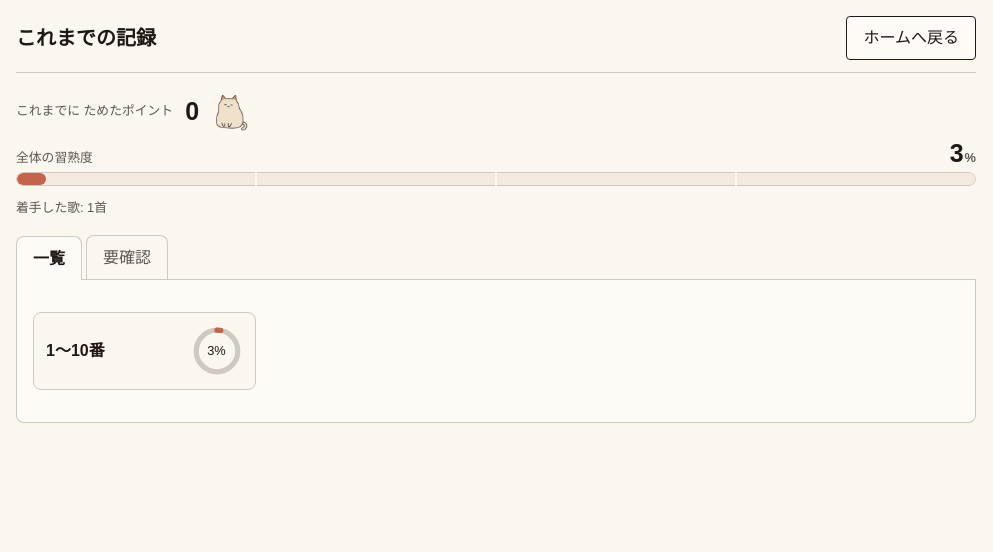
Test: history: 一覧に番号と初句と習熟度が並ぶ
The width and height of the screenshot is (993, 552).
Click the button with class "history-group": (144, 351) [33, 312, 256, 390]
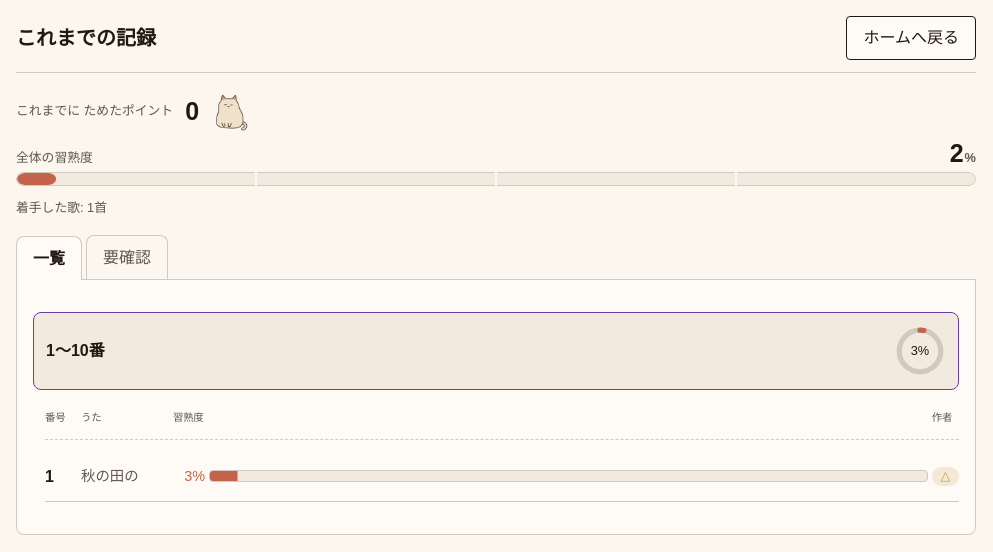
Now the text with class "history-entry__no" reads "1", box [45, 468, 54, 485]
Now the text with class "history-entry__ku" reads "秋の田の", box [81, 468, 139, 484]
